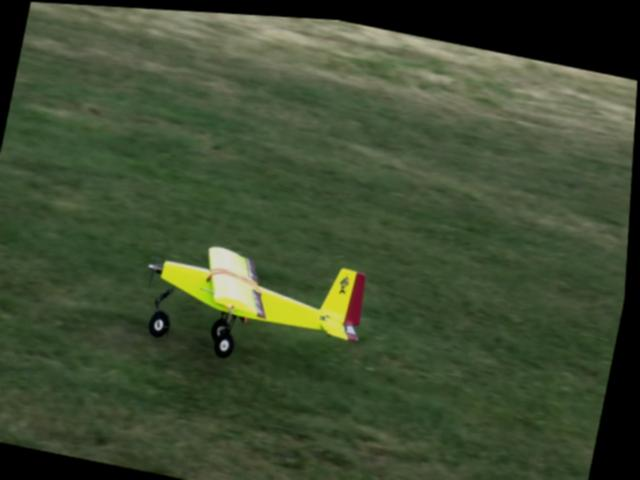plane: (137, 227, 377, 380)
